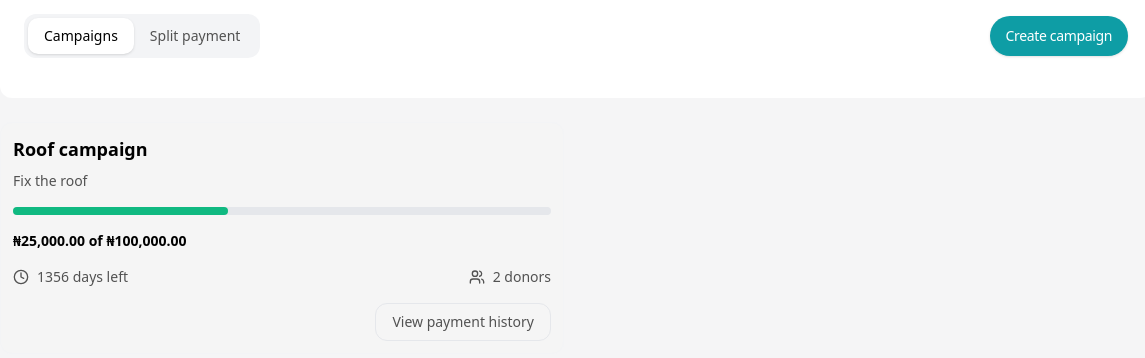
Test: ExpensesTab › fetches bills and renders campaigns/split payments from backend data
Check: the heading "Roof campaign" is shown, box [13,137,148,161]
Check: the text "Rent split" is not shown
Click the button "Split payment" at point(195, 36), box [134,18,256,54]
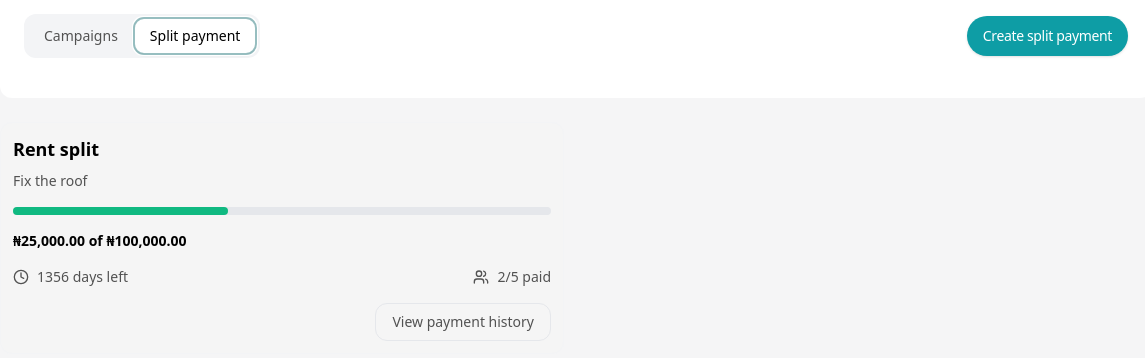
Check: the heading "Rent split" is shown, box [13,137,99,161]
